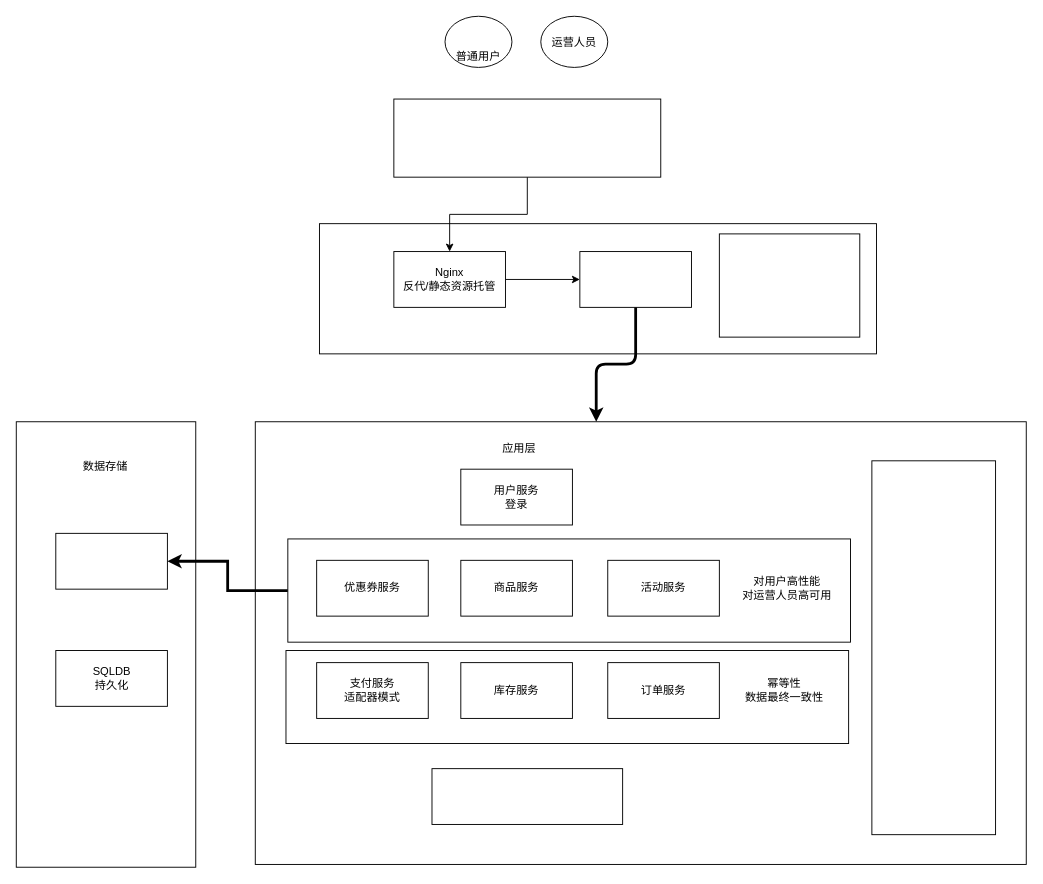
Some shapes in this 1043 by 884 pixel diagram are drawn without their labels. Here are the shapes that lost their labels. From the top down, the centre of each, then its label:
[527,137]: 用户端-Vue3
[635,279]: Spring Cloud 路由/鉴权/限流
[789,285]: Sentinel Spring Cloud Gateway
[111,560]: Redis 缓存
[933,647]: Nacos openFeign MQ 可观测性
[527,796]: XLL-JOB定时/延时任务服务
